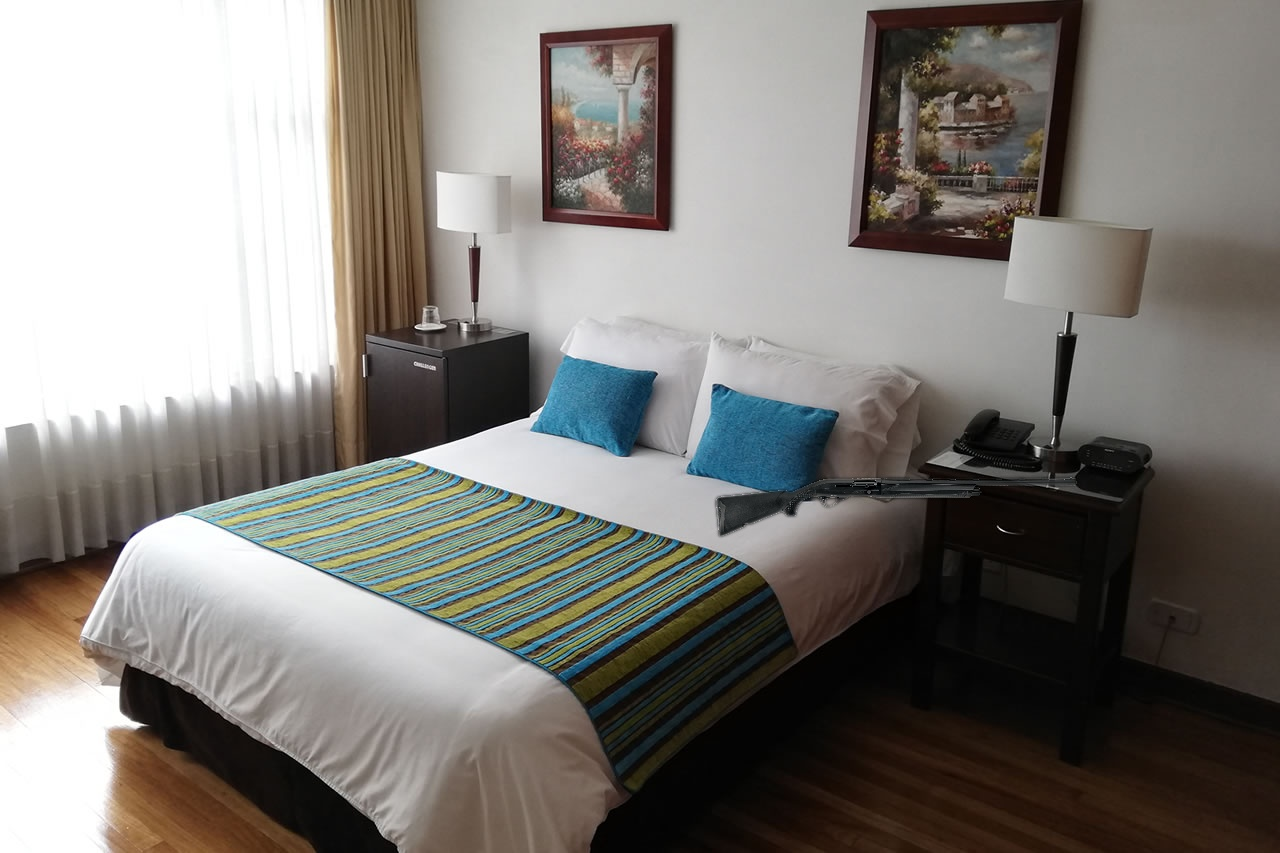escopeta.png: (714, 475, 1090, 551)
